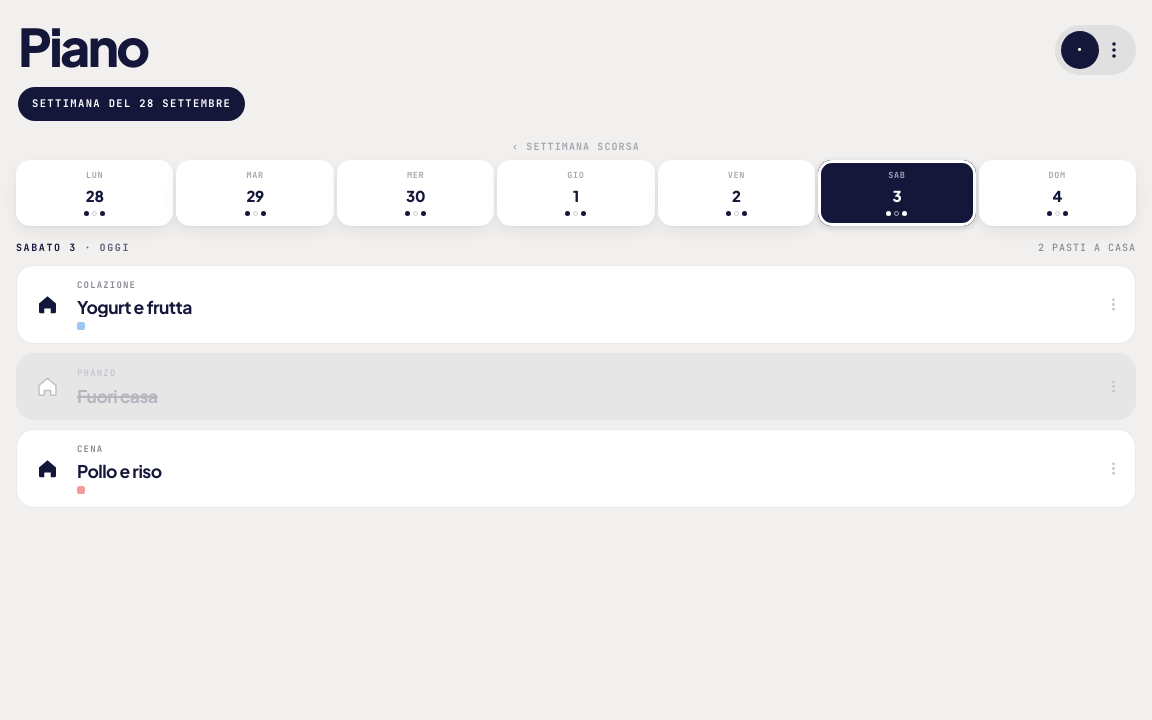
spunta pasti › un fallimento della sola ricarica dei lotti non reverte il salvataggio riuscito né mostra l'errore di salvataggio
Expected: the text "Yogurt e frutta" is shown, [77,297,192,317]
What coordinates should you click on to do the following:
click the button named "Azioni per Cena"
I would click on:
 (1113, 469)
Its box is [1091,430,1135,507].
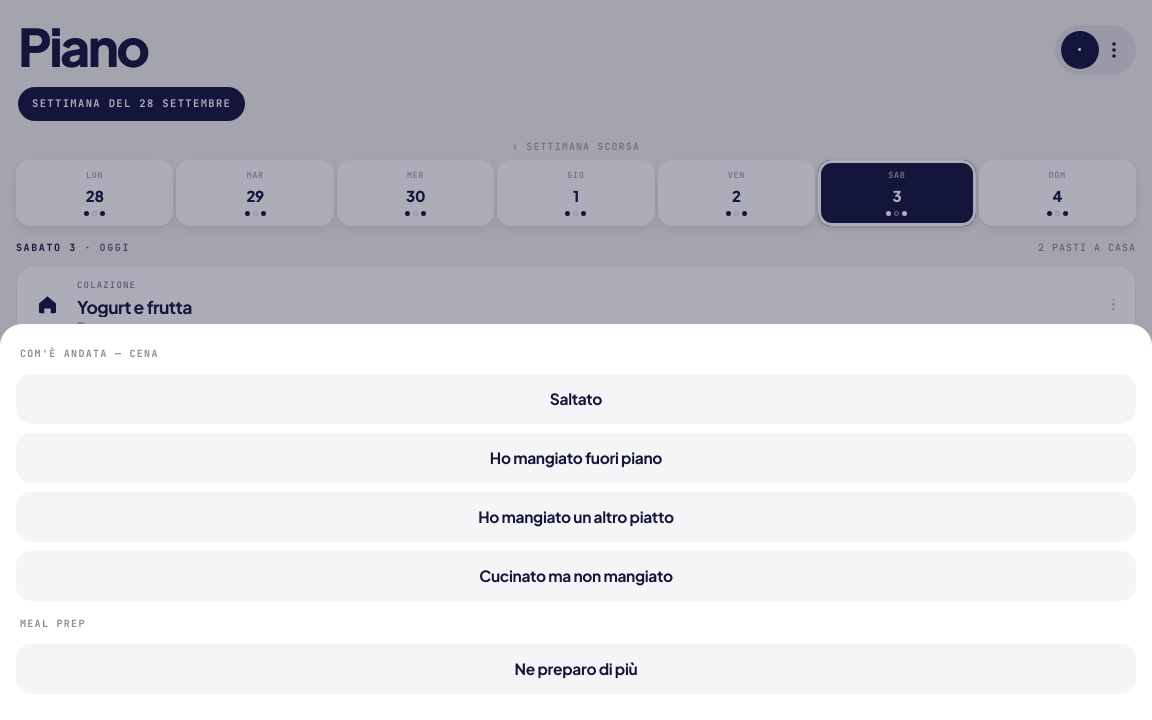
What coordinates should you click on to do the following:
click the button "Cucinato ma non mangiato"
I would click on:
 (576, 576)
Its box is [16,551,1136,601].
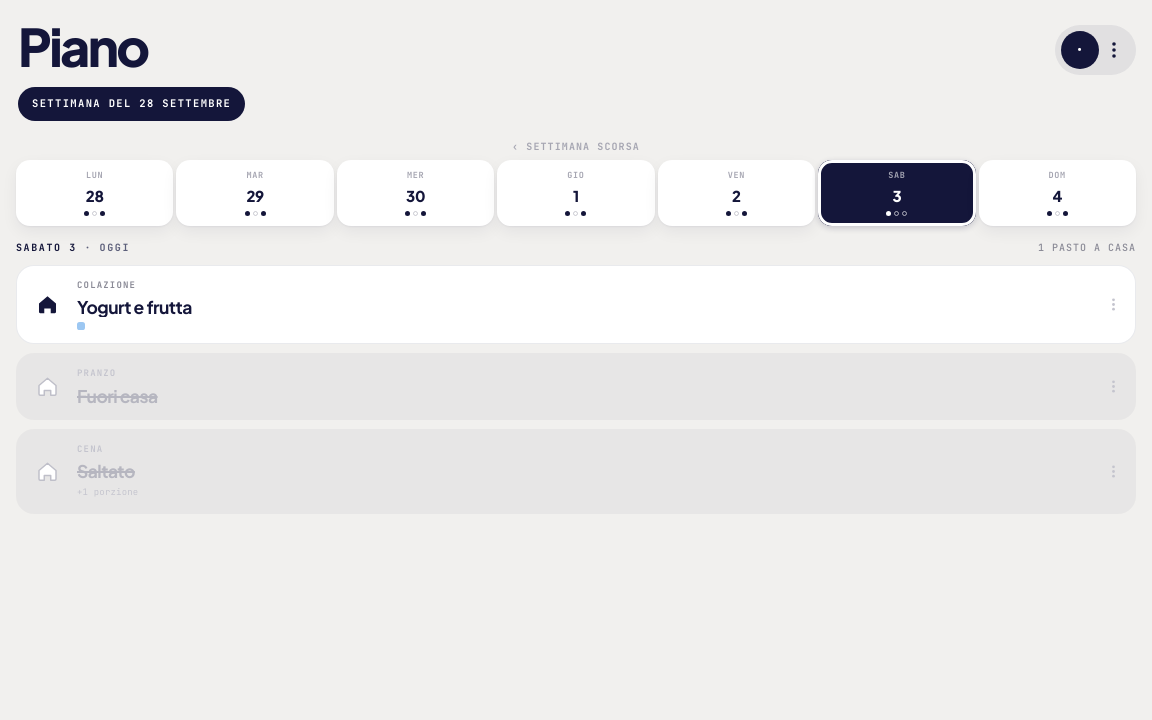
Now the text "Saltato" is shown, box [77,461,135,481]
